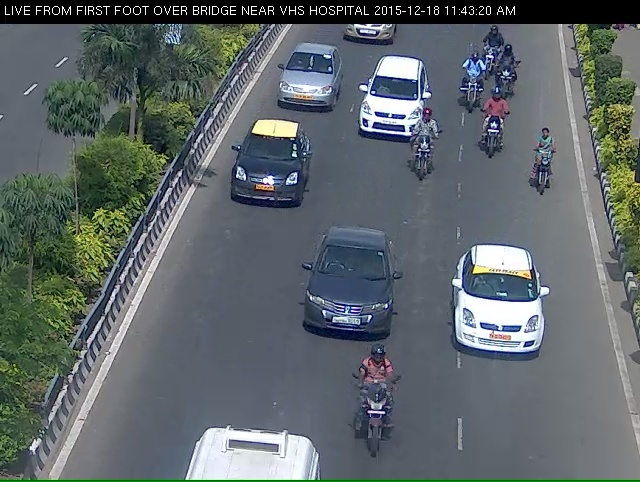Car: (443, 236, 556, 386), (302, 232, 400, 364), (226, 116, 309, 218), (359, 46, 425, 155), (270, 52, 341, 119)
Person: (348, 378, 406, 481), (531, 132, 557, 205), (478, 111, 509, 172), (409, 124, 435, 190), (495, 63, 524, 112), (473, 30, 499, 79), (458, 67, 482, 119)
